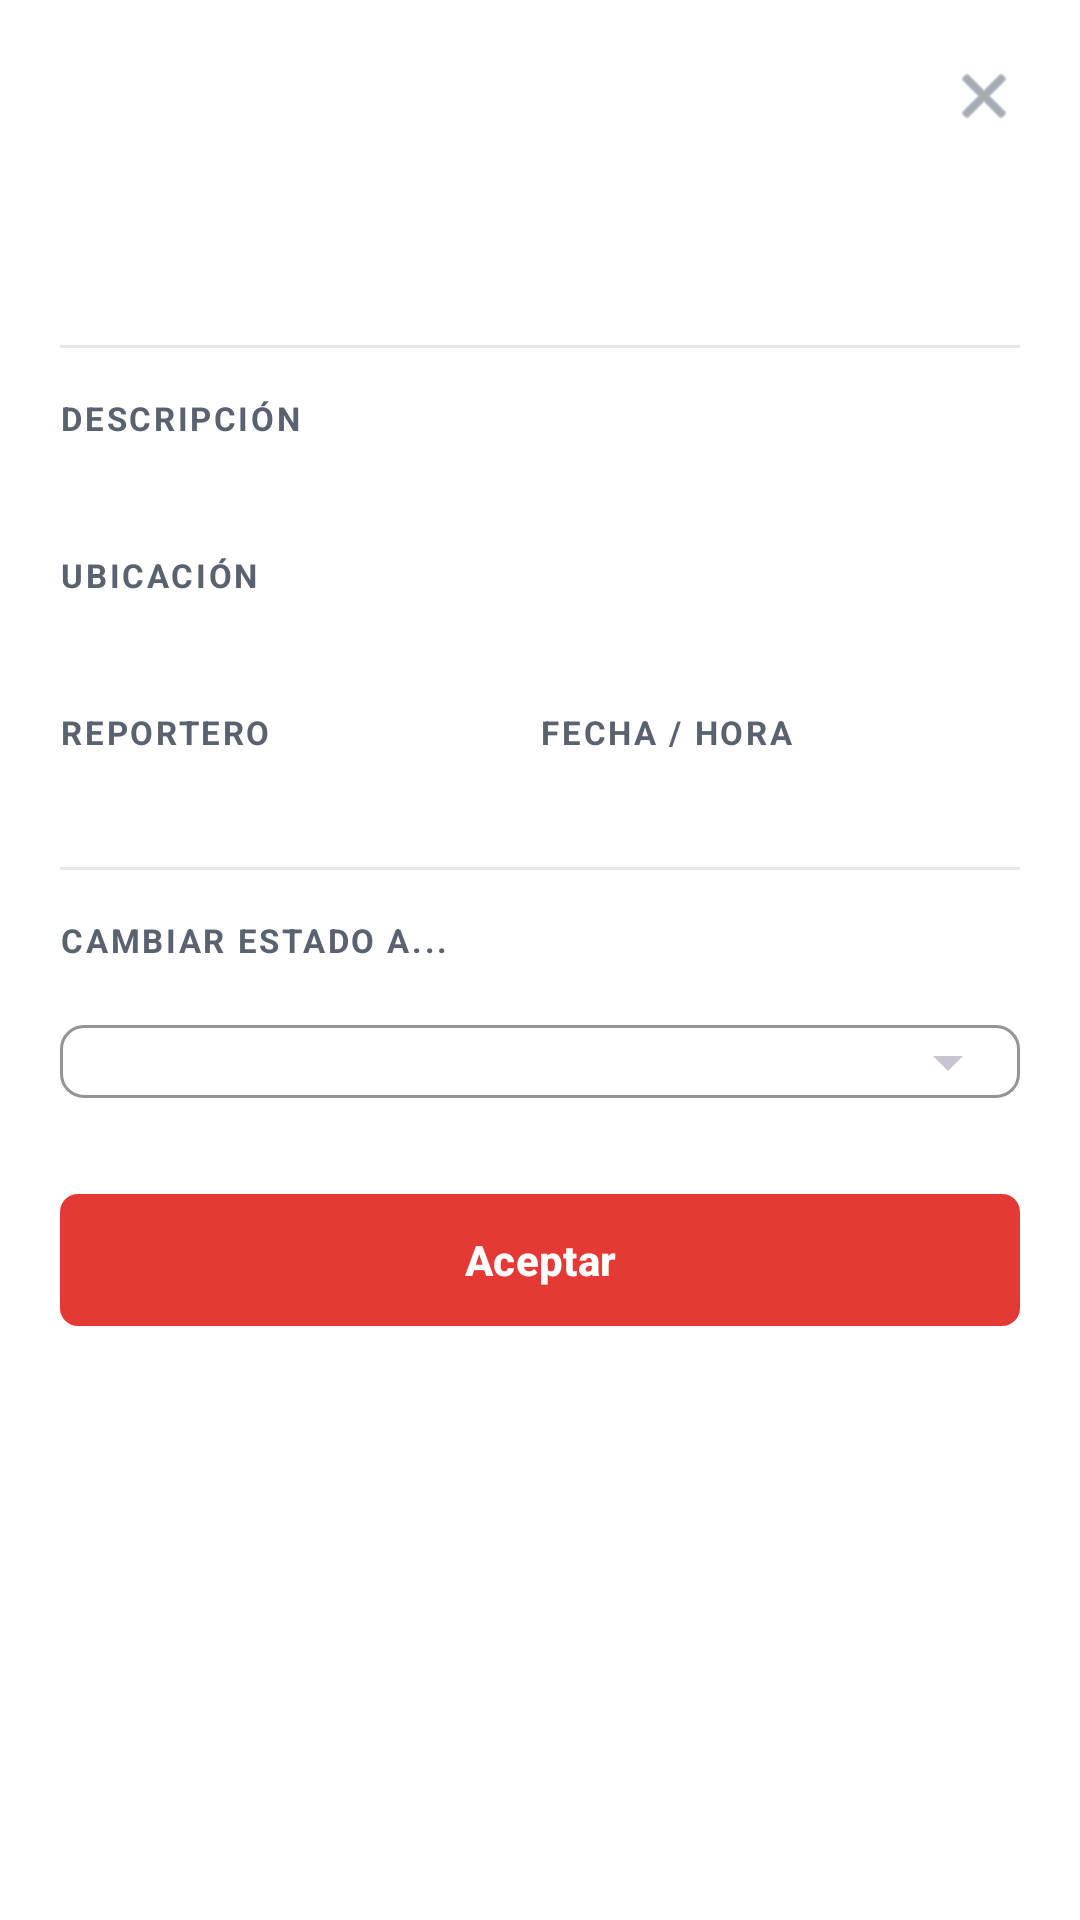

Icon click points for this 1080 x 1920 phone screenshot, format (x,y):
close clear cancel: (984,96)
